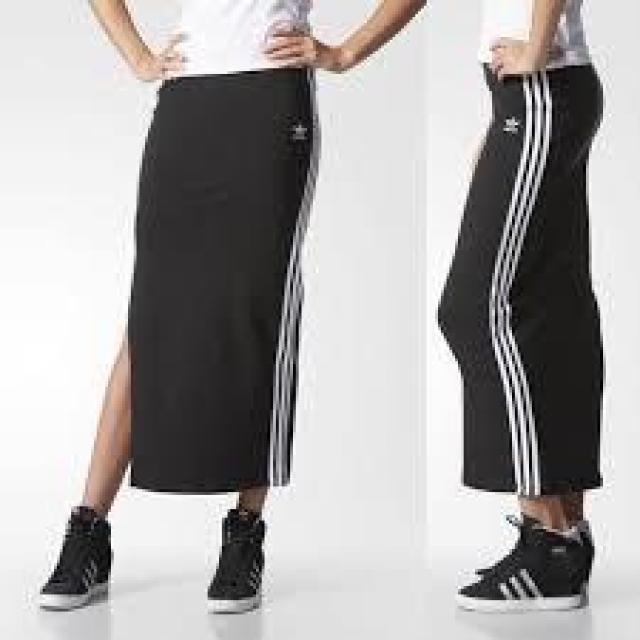skirt: (109, 66, 323, 500), (430, 62, 608, 498)
